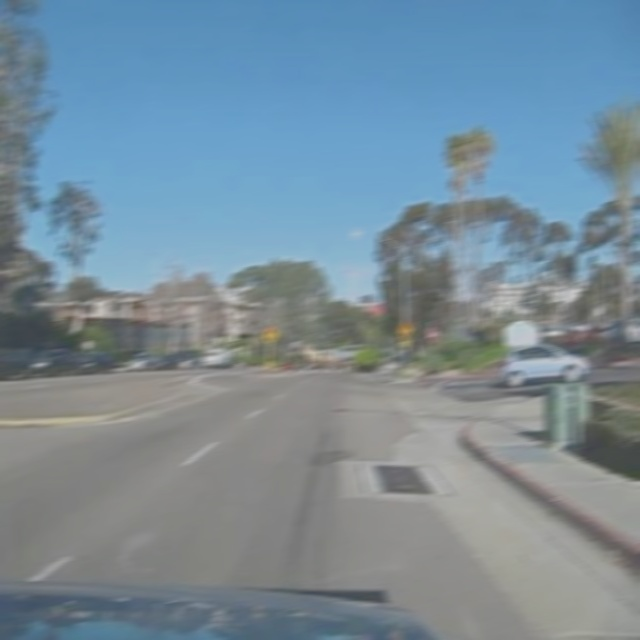signalAhead: (397, 320, 413, 342), (262, 326, 278, 348)
stop: (428, 324, 437, 342)
